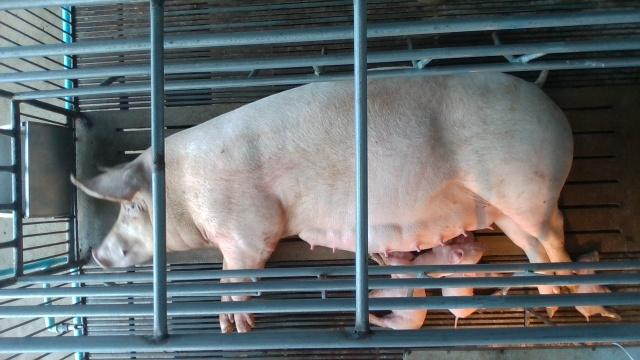piglet: (441, 232, 501, 329), (369, 252, 427, 330), (378, 243, 491, 278), (573, 251, 621, 322)
sow-sleep-lactate: (68, 66, 574, 334)
